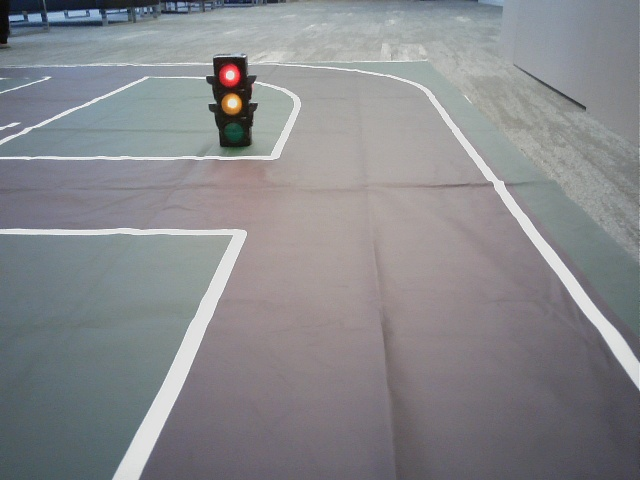red: (214, 58, 249, 142)
